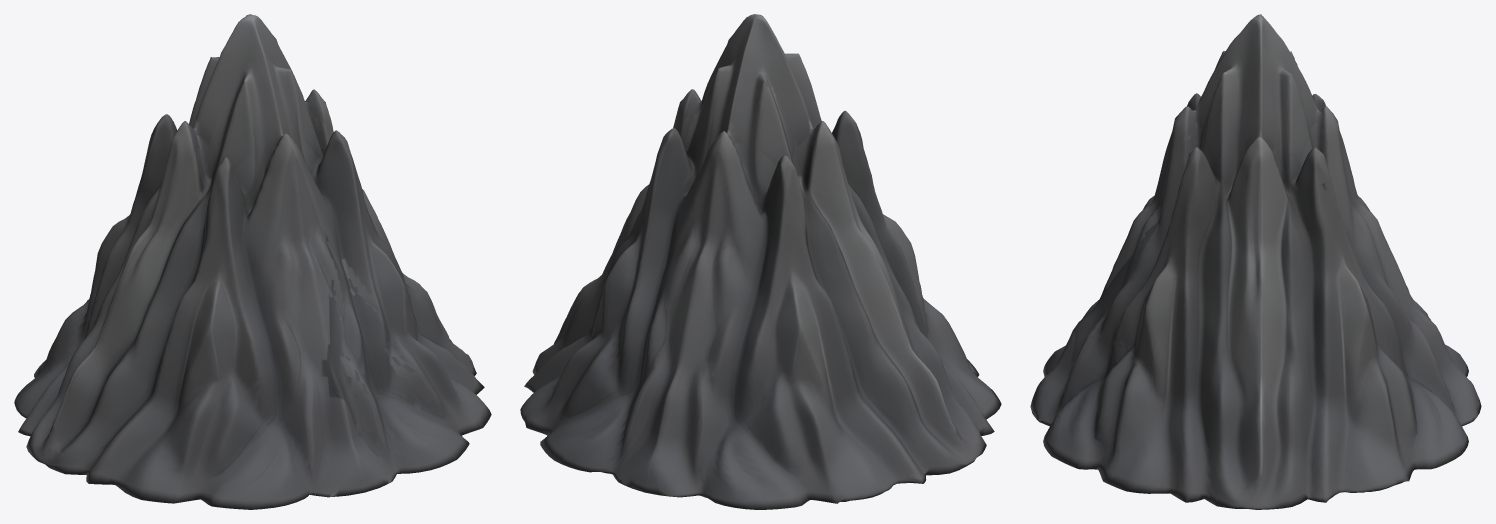
Rendered from Montanha Cinza.glb.
3 views of the same model, side by side, from view 1: azimuth 30°, elevation 25°; view 2: azimuth 150°, elevation 25°; view 3: azimuth 270°, elevation 25° (orthographic).
Visible parts, largest first — view 1: model; view 2: model; view 3: model.
Part boxes in pixels (x1=…): model: x1=14, y1=14, x2=491, y2=509; model: x1=520, y1=14, x2=1001, y2=509; model: x1=1030, y1=14, x2=1481, y2=509.
Bounding box in the file's own units: 1.9 × 1.67 × 1.75.
1 material, 1 textured.
